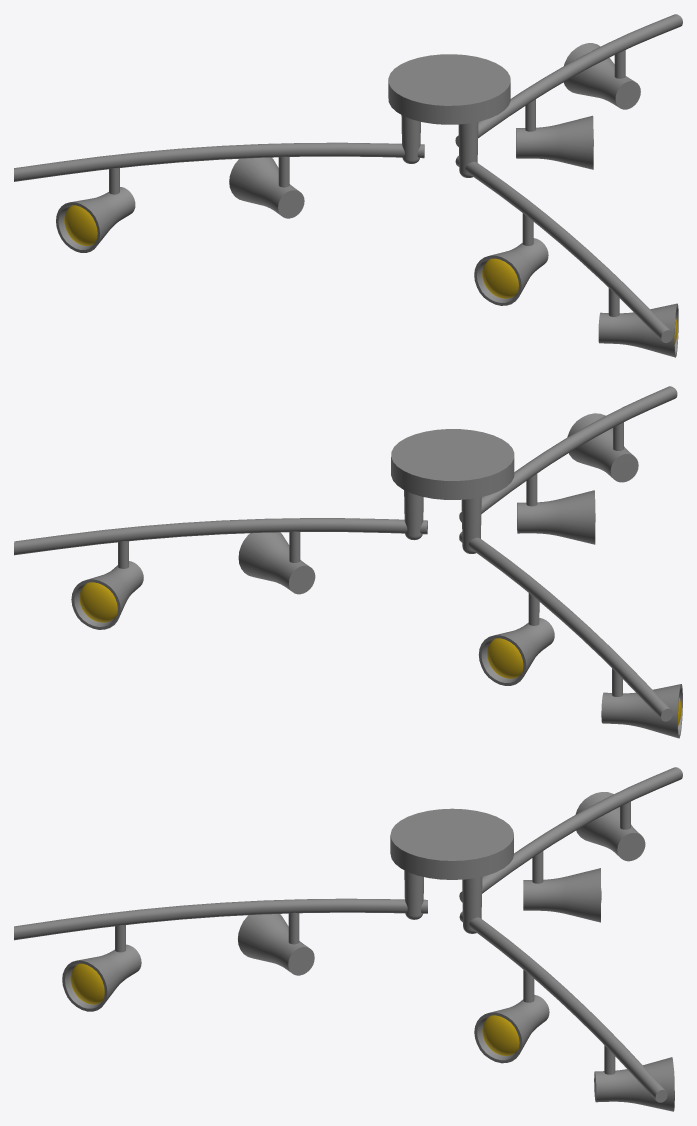
Rendered from Spot4_1.fbx.
3 views of the same model, one above another, from view 1: azimuth 30°, elevation 25°; view 2: azimuth 150°, elevation 25°; view 3: azimuth 270°, elevation 25° (orthographic).
Visible parts, largest first — view 1: pCylinder1364, pCylinder1365, pCylinder1362, pCylinder1363, pCylinder1359, pCylinder1369, pCylinder1370, pCylinder1367, pCylinder1358, pCylinder1373, pCylinder1361, pSphere179 (+1 smaller); view 2: pCylinder1364, pCylinder1363, pCylinder1365, pCylinder1367, pCylinder1362, pCylinder1369, pCylinder1373, pCylinder1370, pCylinder1359, pCylinder1358, pCylinder1361, pSphere182 (+1 smaller); view 3: pCylinder1364, pCylinder1362, pCylinder1363, pCylinder1365, pCylinder1358, pCylinder1370, pCylinder1367, pCylinder1369, pCylinder1373, pCylinder1359, pCylinder1361, pSphere183 (+1 smaller).
Part boxes in pixels (bbox=[...]): pCylinder1364: bbox=[388, 54, 510, 124]; pCylinder1365: bbox=[14, 142, 424, 181]; pCylinder1362: bbox=[455, 155, 672, 342]; pCylinder1363: bbox=[455, 14, 682, 146]; pCylinder1359: bbox=[56, 187, 135, 252]; pCylinder1369: bbox=[474, 238, 548, 305]; pCylinder1370: bbox=[516, 115, 593, 169]; pCylinder1367: bbox=[229, 157, 304, 218]; pCylinder1358: bbox=[598, 303, 678, 357]; pCylinder1373: bbox=[563, 43, 640, 109]; pCylinder1361: bbox=[401, 115, 478, 177]; pSphere179: bbox=[482, 258, 518, 298]; pCylinder1364: bbox=[391, 429, 514, 499]; pCylinder1363: bbox=[14, 518, 427, 555]; pCylinder1365: bbox=[459, 532, 672, 721]; pCylinder1367: bbox=[478, 618, 554, 685]; pCylinder1362: bbox=[459, 386, 677, 522]; pCylinder1369: bbox=[517, 490, 595, 544]; pCylinder1373: bbox=[71, 561, 143, 629]; pCylinder1370: bbox=[238, 532, 315, 594]; pCylinder1359: bbox=[601, 684, 682, 738]; pCylinder1358: bbox=[567, 413, 638, 482]; pCylinder1361: bbox=[404, 490, 481, 553]; pSphere182: bbox=[79, 582, 117, 622]; pCylinder1364: bbox=[390, 808, 513, 879]; pCylinder1362: bbox=[14, 898, 427, 940]; pCylinder1363: bbox=[459, 911, 667, 1102]; pCylinder1365: bbox=[459, 767, 682, 902]; pCylinder1358: bbox=[62, 944, 141, 1011]; pCylinder1370: bbox=[474, 995, 549, 1063]; pCylinder1367: bbox=[523, 868, 600, 922]; pCylinder1369: bbox=[238, 914, 314, 975]; pCylinder1373: bbox=[594, 1057, 674, 1111]; pCylinder1359: bbox=[575, 792, 645, 861]; pCylinder1361: bbox=[404, 870, 482, 933]; pSphere183: bbox=[482, 1015, 519, 1055].
Bounding box in the file's own units: 65.53 × 14.45 × 56.94.
